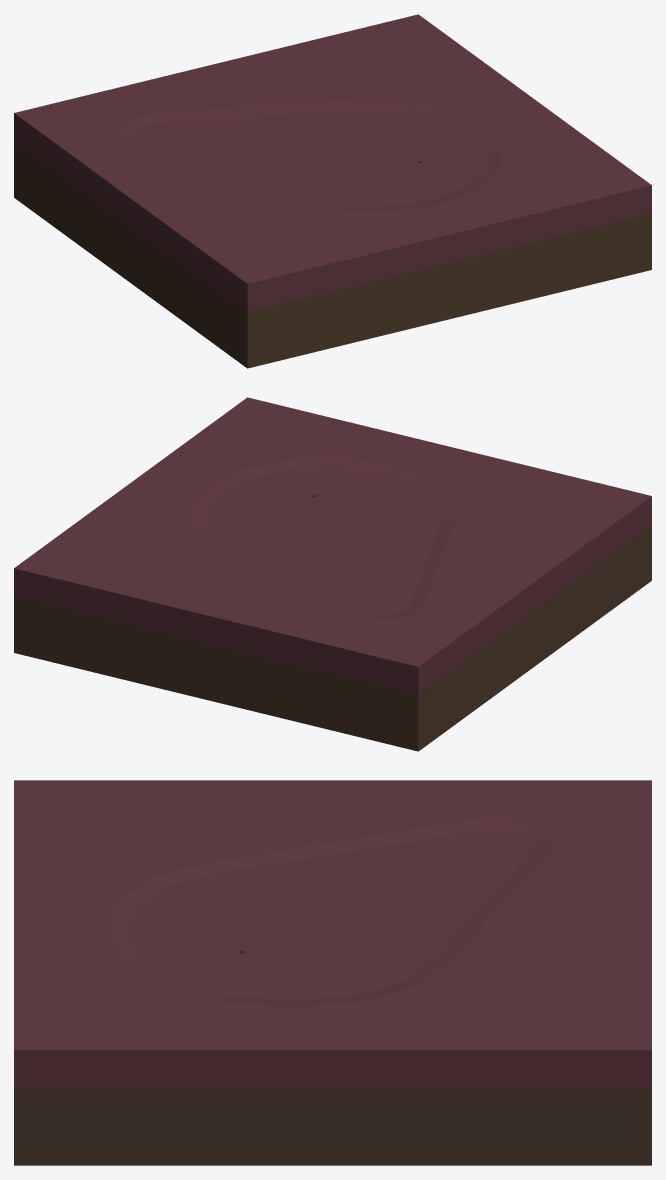
File: tiles-tile-golf-green.glb
The picture shows the model from 3 angles, top to bottom: view 1: azimuth 30°, elevation 25°; view 2: azimuth 150°, elevation 25°; view 3: azimuth 270°, elevation 25°; orthographic projection. The views are drawn at different scales.
Visible parts, largest first — view 1: tile-golf-green; view 2: tile-golf-green; view 3: tile-golf-green.
Part boxes in pixels (left/top/right/bottom): tile-golf-green: left=14, top=14, right=651, bottom=368; tile-golf-green: left=14, top=397, right=651, bottom=751; tile-golf-green: left=14, top=780, right=651, bottom=1165.
Bounding box in the file's own units: 30 × 6 × 30.
